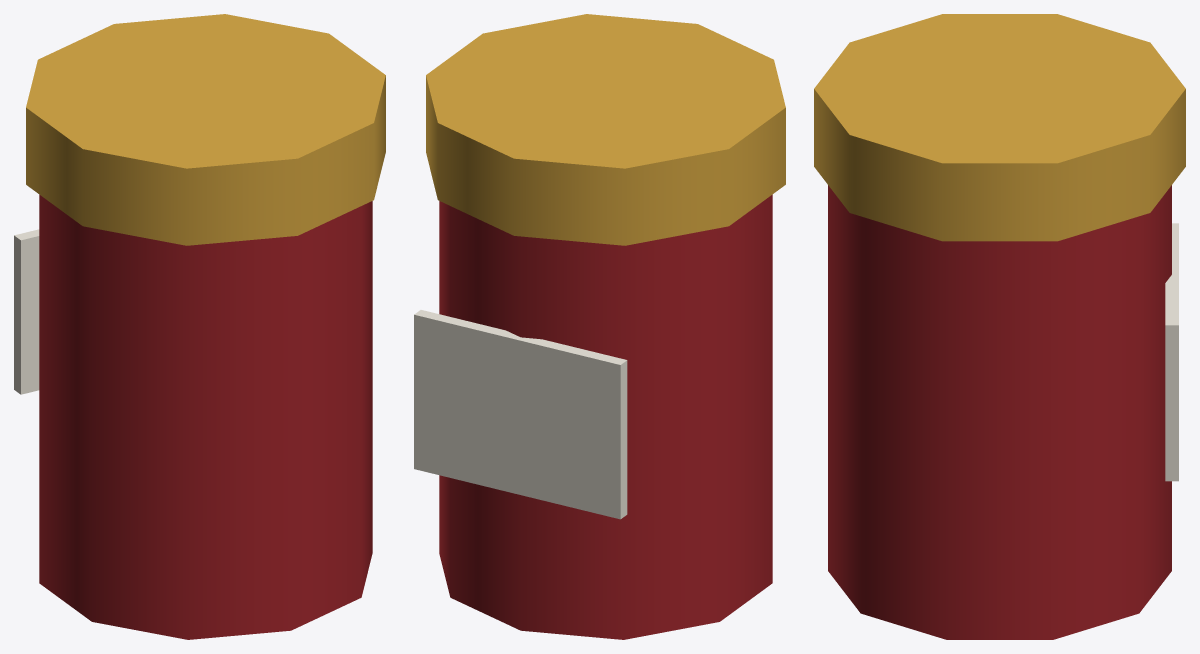
Rendered from good-jam.glb.
The picture shows the model from 3 angles, left to right: view 1: azimuth 30°, elevation 25°; view 2: azimuth 150°, elevation 25°; view 3: azimuth 270°, elevation 25°; orthographic projection.
Visible parts, largest first — view 1: #a3262c rough 0.2, #d8a840 metal 0.6 rough 0.4, #f0ece0_noshadow; view 2: #a3262c rough 0.2, #d8a840 metal 0.6 rough 0.4, #f0ece0_noshadow; view 3: #a3262c rough 0.2, #d8a840 metal 0.6 rough 0.4, #f0ece0_noshadow.
Part boxes in pixels (<box>): #a3262c rough 0.2: <box>39,194,372,639</box>; #d8a840 metal 0.6 rough 0.4: <box>26,14,385,245</box>; #f0ece0_noshadow: <box>14,229,39,394</box>; #a3262c rough 0.2: <box>439,194,772,639</box>; #d8a840 metal 0.6 rough 0.4: <box>426,14,785,245</box>; #f0ece0_noshadow: <box>414,310,627,519</box>; #a3262c rough 0.2: <box>828,185,1171,639</box>; #d8a840 metal 0.6 rough 0.4: <box>814,14,1185,241</box>; #f0ece0_noshadow: <box>1165,223,1178,481</box>.
Bounding box in the file's own units: 0.1027 × 0.1545 × 0.108.
